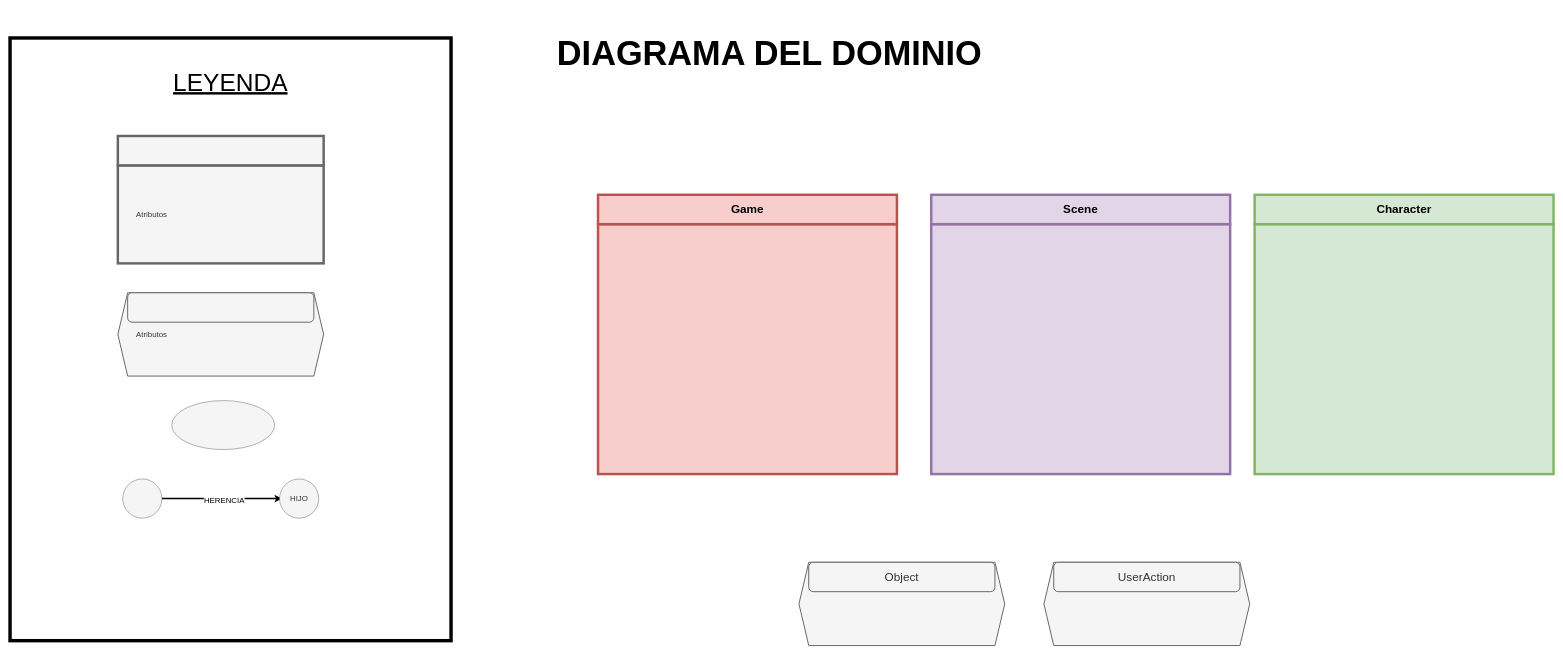
Image size: 1563x654. Some labels were removed from this diagram. Each missing label, with the centre of its shape:
Entidad: pixel 220 150
Enumerado: pixel 223 425
Objeto de valor: pixel 220 307
PADRE: pixel 142 498
